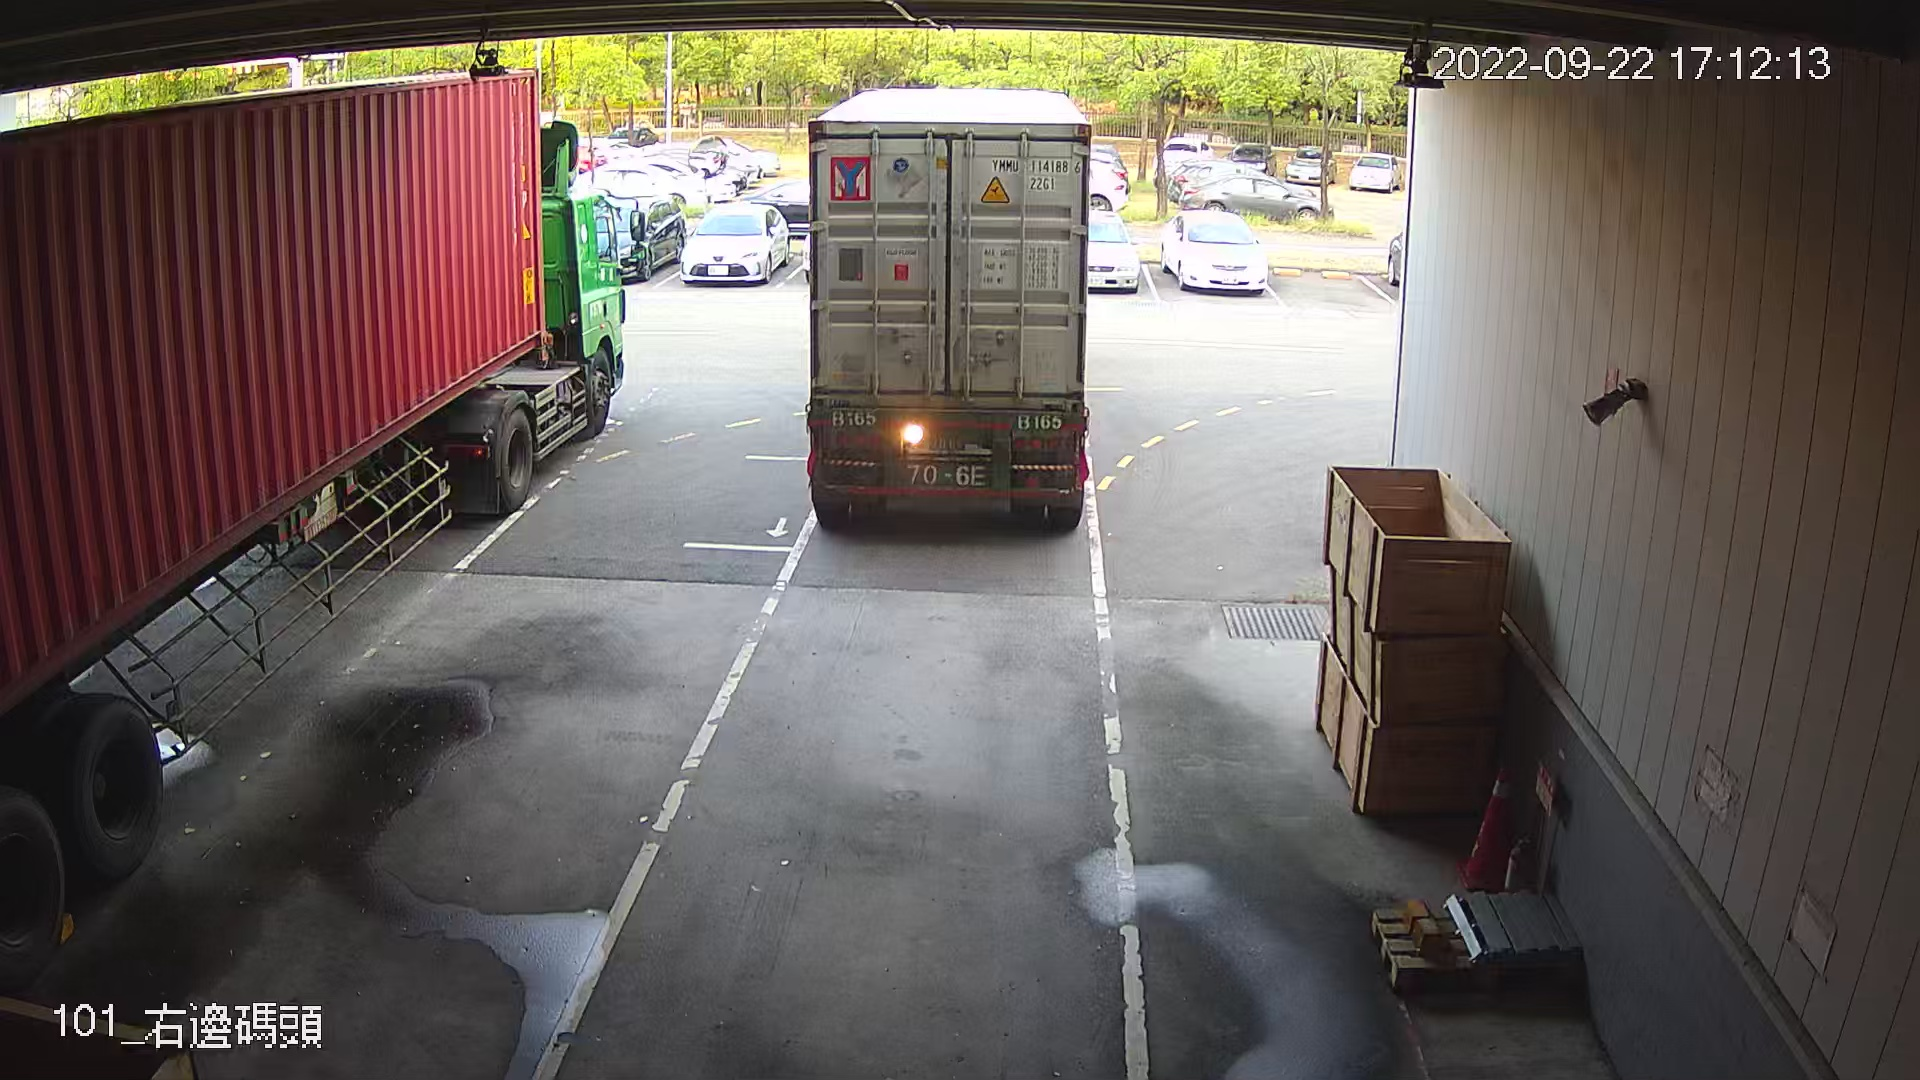container: (986, 152, 1084, 195)
